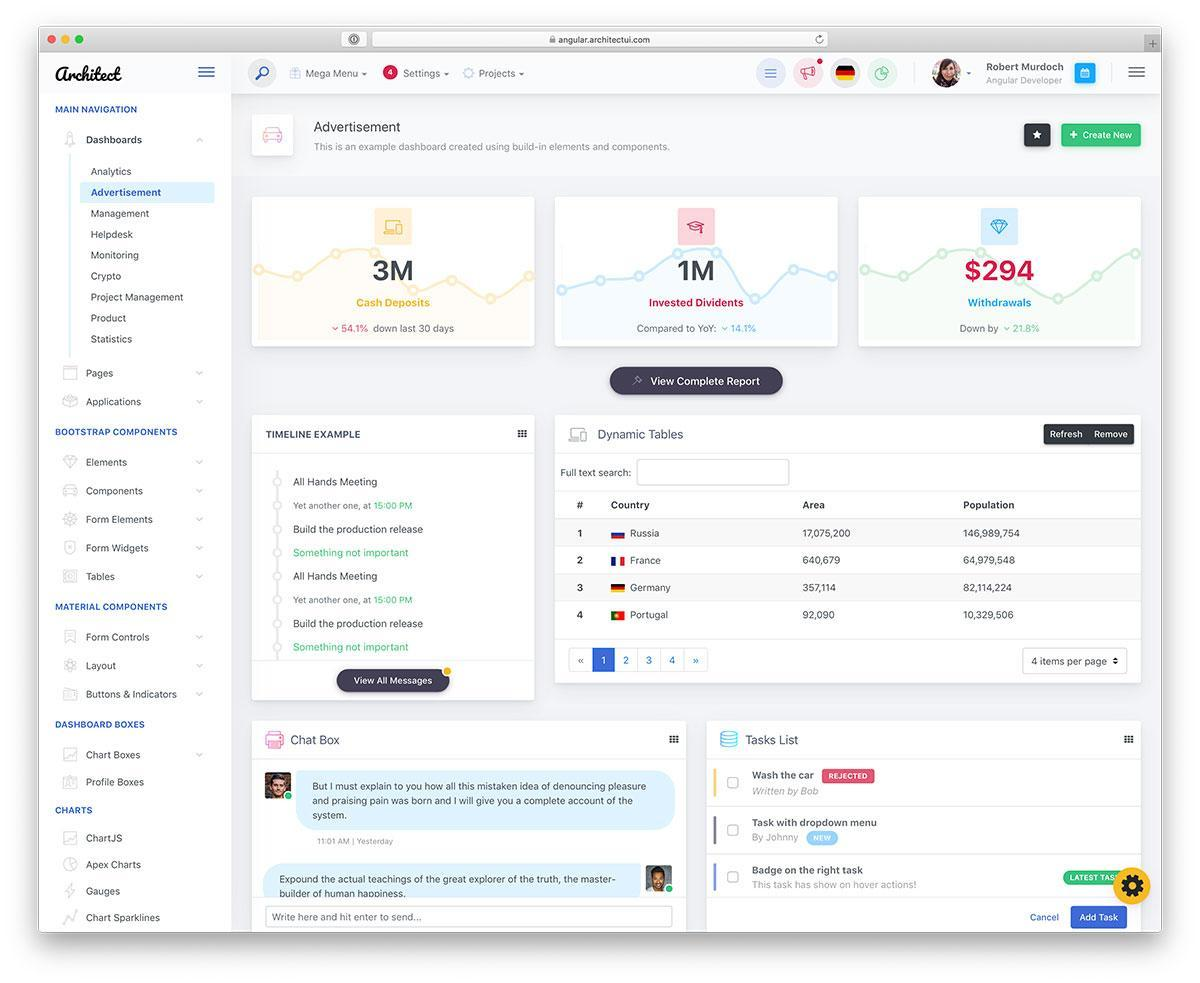button: (611, 365, 784, 398), (1044, 425, 1136, 446), (1062, 125, 1143, 148), (1071, 906, 1128, 931), (867, 58, 901, 91), (792, 57, 826, 89), (754, 57, 788, 87), (830, 59, 863, 89), (1026, 905, 1067, 929), (1025, 124, 1052, 147), (1075, 64, 1098, 85)
checkbox: (727, 871, 740, 884), (728, 778, 740, 789), (728, 825, 739, 837)
dropdown: (1023, 649, 1128, 673)
icon: (260, 123, 287, 149), (60, 685, 83, 707), (61, 481, 83, 502), (59, 776, 82, 796), (61, 510, 82, 531), (63, 130, 83, 151), (61, 363, 81, 384), (60, 568, 81, 588), (61, 392, 80, 414), (61, 830, 82, 849), (62, 451, 80, 473), (61, 628, 80, 648), (63, 745, 81, 766), (197, 64, 217, 82), (1127, 65, 1149, 81), (63, 656, 80, 676), (63, 538, 79, 559), (253, 66, 271, 84), (61, 909, 79, 927), (63, 856, 80, 875), (63, 880, 78, 901), (462, 67, 476, 83), (516, 428, 531, 441), (290, 67, 303, 82), (669, 734, 683, 746), (1123, 735, 1136, 747)
input: (640, 462, 789, 484)
label: (751, 862, 921, 894), (748, 813, 891, 847), (751, 769, 885, 802), (559, 467, 634, 482), (306, 68, 360, 82), (404, 68, 444, 83), (479, 69, 519, 81)
table: (561, 490, 1140, 641)
